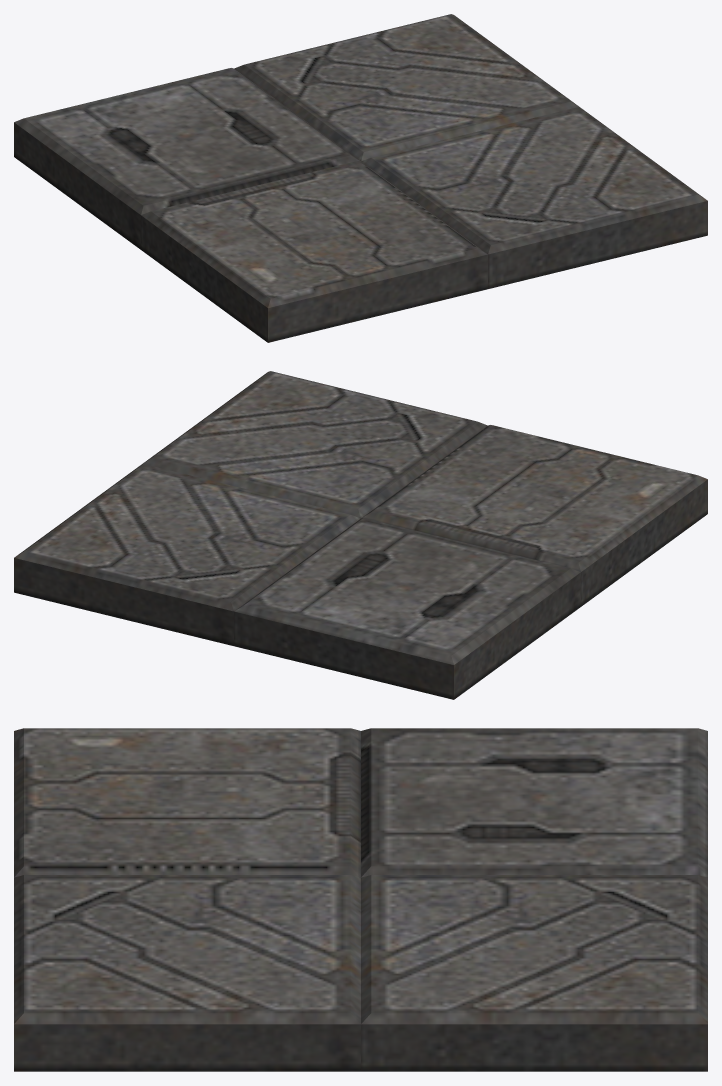
File: SM_EN_1002_dibanzhuan02.FBX
3 views of the same model, one above another, from view 1: azimuth 30°, elevation 25°; view 2: azimuth 150°, elevation 25°; view 3: azimuth 270°, elevation 25° (orthographic). The views are drawn at different scales.
Parts seen in each view (by area): view 1: SM_EN_1002_dibanzhuan02; view 2: SM_EN_1002_dibanzhuan02; view 3: SM_EN_1002_dibanzhuan02.
Part boxes in pixels (x1=…): SM_EN_1002_dibanzhuan02: x1=14, y1=14, x2=707, y2=342; SM_EN_1002_dibanzhuan02: x1=14, y1=371, x2=707, y2=699; SM_EN_1002_dibanzhuan02: x1=14, y1=728, x2=707, y2=1071.
Bounding box in the file's own units: 169 × 14.57 × 168.
